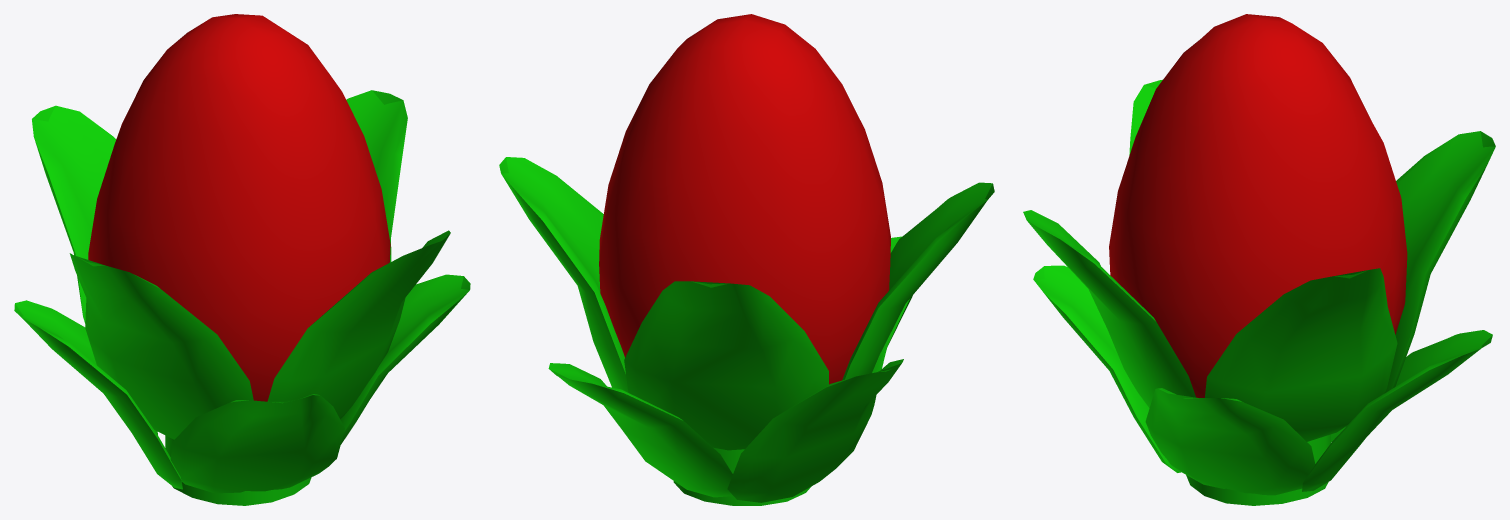
File: Corn.fbx
3 views of the same model, side by side, from view 1: azimuth 30°, elevation 25°; view 2: azimuth 150°, elevation 25°; view 3: azimuth 270°, elevation 25° (orthographic).
Visible parts, largest first — view 1: Corn_l; view 2: Corn_l; view 3: Corn_l.
Part boxes in pixels (box(x1,y1,x2,y2)): Corn_l: box(14, 14, 470, 505); Corn_l: box(499, 14, 994, 505); Corn_l: box(1023, 14, 1495, 505).
Size of the model in its own units: 131 by 133 by 141.
